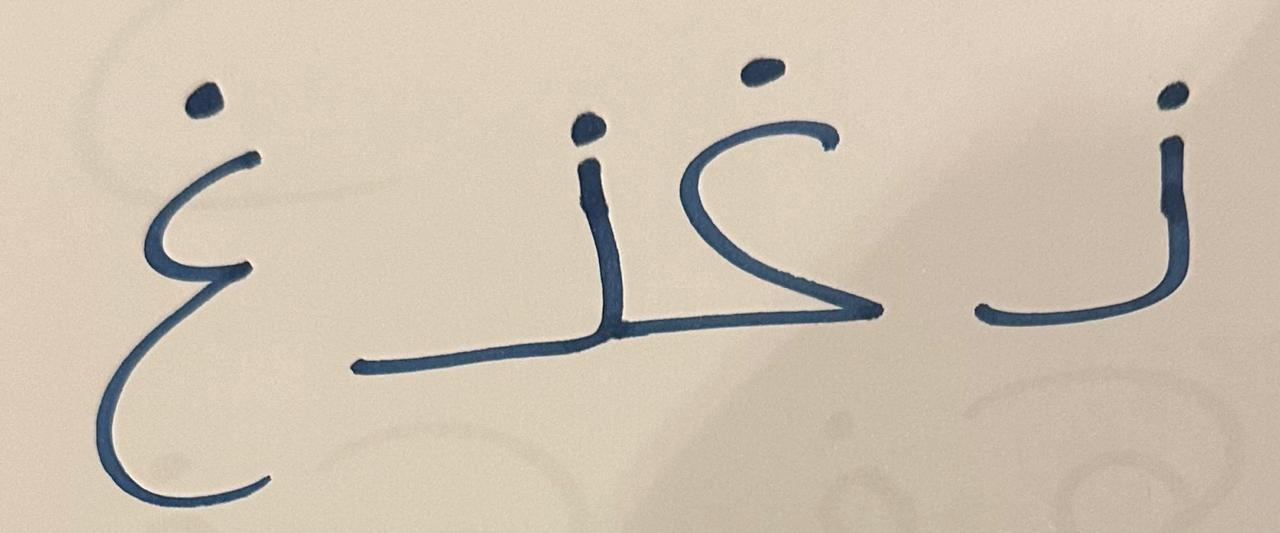ain: (943, 10, 1257, 389), (319, 49, 646, 406)
ghain: (42, 14, 312, 521), (651, 1, 935, 393)
